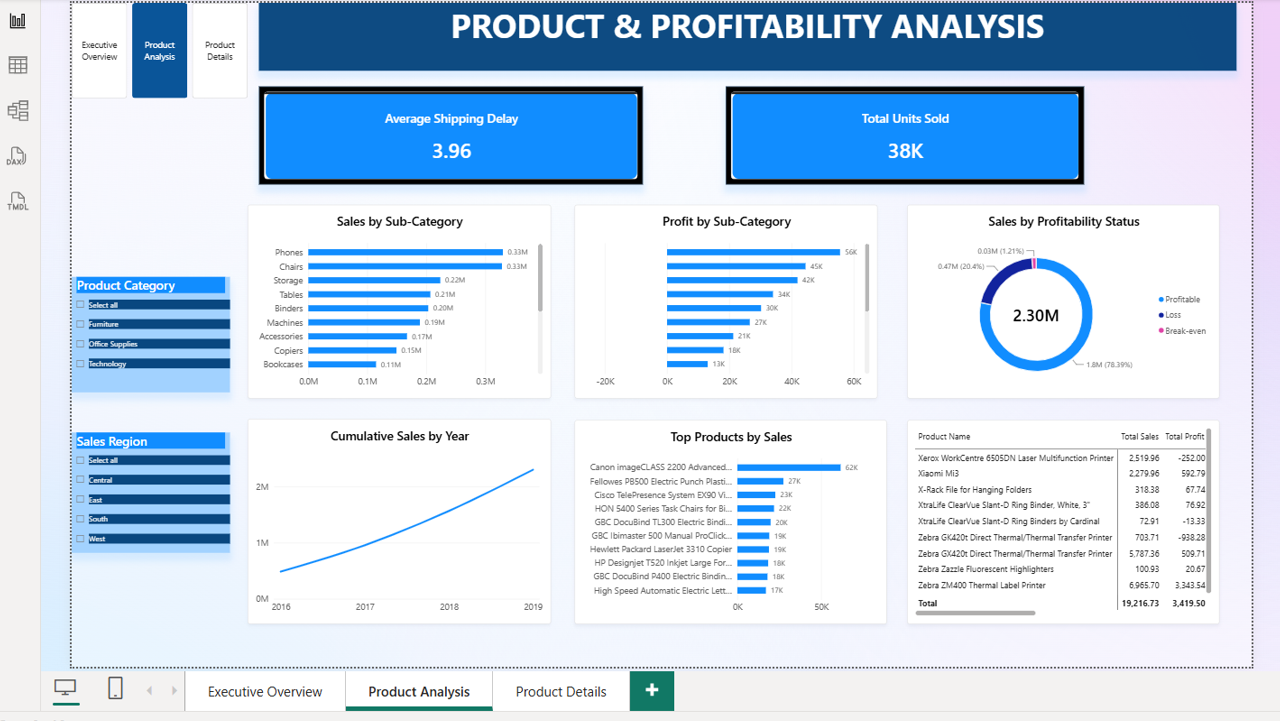

The dashboard page shown, as its layout file describes it:
{"tool":"powerbi","page":{"name":"Product Analysis","canvas":[1920,1080],"ordinal":1},"visuals":[{"type":"clusteredBarChart","title":"Sales by Sub-Category","fields":{"Category":["Orders.Sub-Category"],"Y":["Orders.Total Sales"]},"box":[286.1,328.3,493.4,315.5],"z":0},{"type":"clusteredBarChart","title":"Profit by Sub-Category","fields":{"Category":["Orders.Sub-Category"],"Y":["Orders.Total Profit"]},"box":[818.1,328.3,493,315],"z":1000},{"type":"donutChart","title":"Sales by Profitability Status","fields":{"Category":["Orders.Profitability Category"],"Y":["Orders.Total Sales"]},"box":[1359.2,328.3,508.1,315.5],"z":2000},{"type":"lineChart","title":"Cumulative Sales by Year","fields":{"Category":["Calendar.Date.Variation.Date Hierarchy.Year","Calendar.Date.Variation.Date Hierarchy.Quarter","Calendar.Date.Variation.Date Hierarchy.Month","Calendar.Date.Variation.Date Hierarchy.Day"],"Y":["Orders.Running Total Sales"]},"box":[286.1,676.8,493.4,333.8],"z":3000},{"type":"clusteredBarChart","title":"Top Products by Sales","fields":{"Category":["Orders.Product Name"],"Y":["Orders.Total Sales"]},"box":[818.1,678.7,508.1,332],"z":4000},{"type":"cardVisual","fields":{"Data":["Orders.Average Shipping Delay"]},"box":[305.3,136.1,625,160.9],"z":5000},{"type":"cardVisual","fields":{"Data":["Orders.Total Quantity"]},"box":[1064.4,136.1,583.8,160.9],"z":6000},{"type":"slicer","fields":{"Values":["Orders.Category"]},"box":[0,445.6,257.8,187.7],"z":7000},{"type":"pivotTable","fields":{"Rows":["Orders.Product Name"],"Values":["Orders.Total Sales","Orders.Total Profit","Orders.Profit Margin %","Orders.Total Quantity"]},"box":[1359.2,678.7,508.1,332],"z":8000},{"type":"slicer","fields":{"Values":["Orders.Region"]},"box":[0,699.3,257.8,196],"z":9000},{"type":"textbox","box":[304.5,0,1590.3,110.1],"z":10000},{"type":"pageNavigator","box":[0,0,286.1,155.9],"z":10001}]}

Visuals, with their boxes on the page's 1920x1080 design canvas (x1, y1, x2, y2). These are canvas units, not pixel positions in the 1280x721 screenshot, which may show the page scaled, cropped or inside an application window:
"Sales by Sub-Category" clusteredBarChart: BBox(286, 328, 780, 644)
"Profit by Sub-Category" clusteredBarChart: BBox(818, 328, 1311, 643)
"Sales by Profitability Status" donutChart: BBox(1359, 328, 1867, 644)
"Cumulative Sales by Year" lineChart: BBox(286, 677, 780, 1011)
"Top Products by Sales" clusteredBarChart: BBox(818, 679, 1326, 1011)
cardVisual - Orders.Average Shipping Delay: BBox(305, 136, 930, 297)
cardVisual - Orders.Total Quantity: BBox(1064, 136, 1648, 297)
slicer - Orders.Category: BBox(0, 446, 258, 633)
pivotTable - Orders.Product Name x Orders.Total Sales: BBox(1359, 679, 1867, 1011)
slicer - Orders.Region: BBox(0, 699, 258, 895)
textbox: BBox(304, 0, 1895, 110)
pageNavigator: BBox(0, 0, 286, 156)
